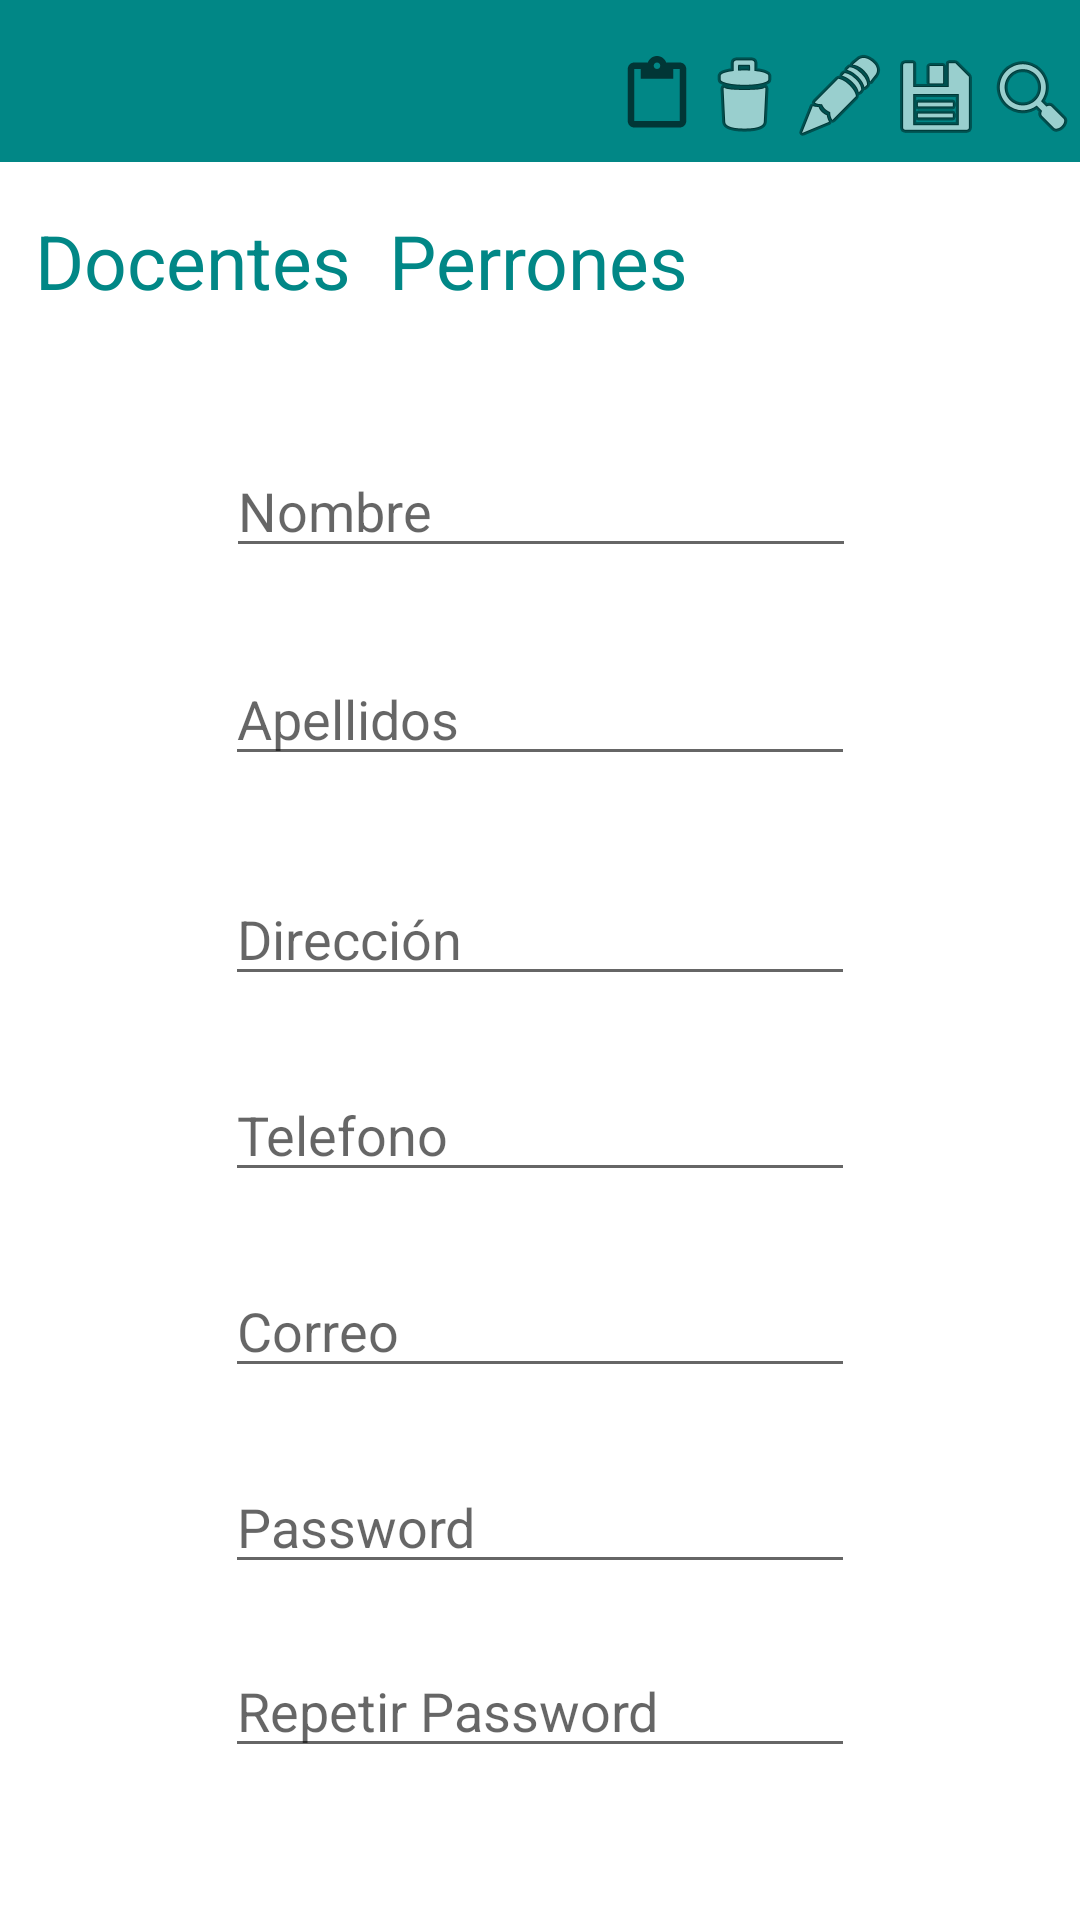

Icons on this 1080w x 1920h Android screen, each with its box as box(x1, y1, x2, y2):
delete: box(718, 57, 771, 132)
edit: box(799, 55, 880, 136)
save: box(900, 60, 972, 133)
search: box(997, 61, 1067, 132)
